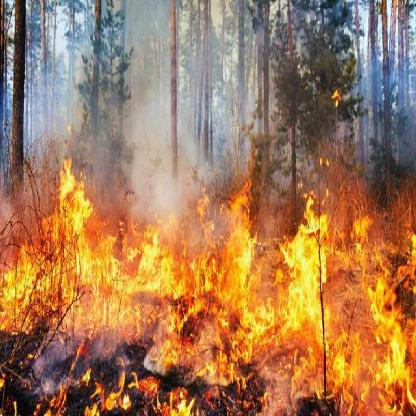fire: (0, 140, 415, 414), (331, 87, 341, 109)
